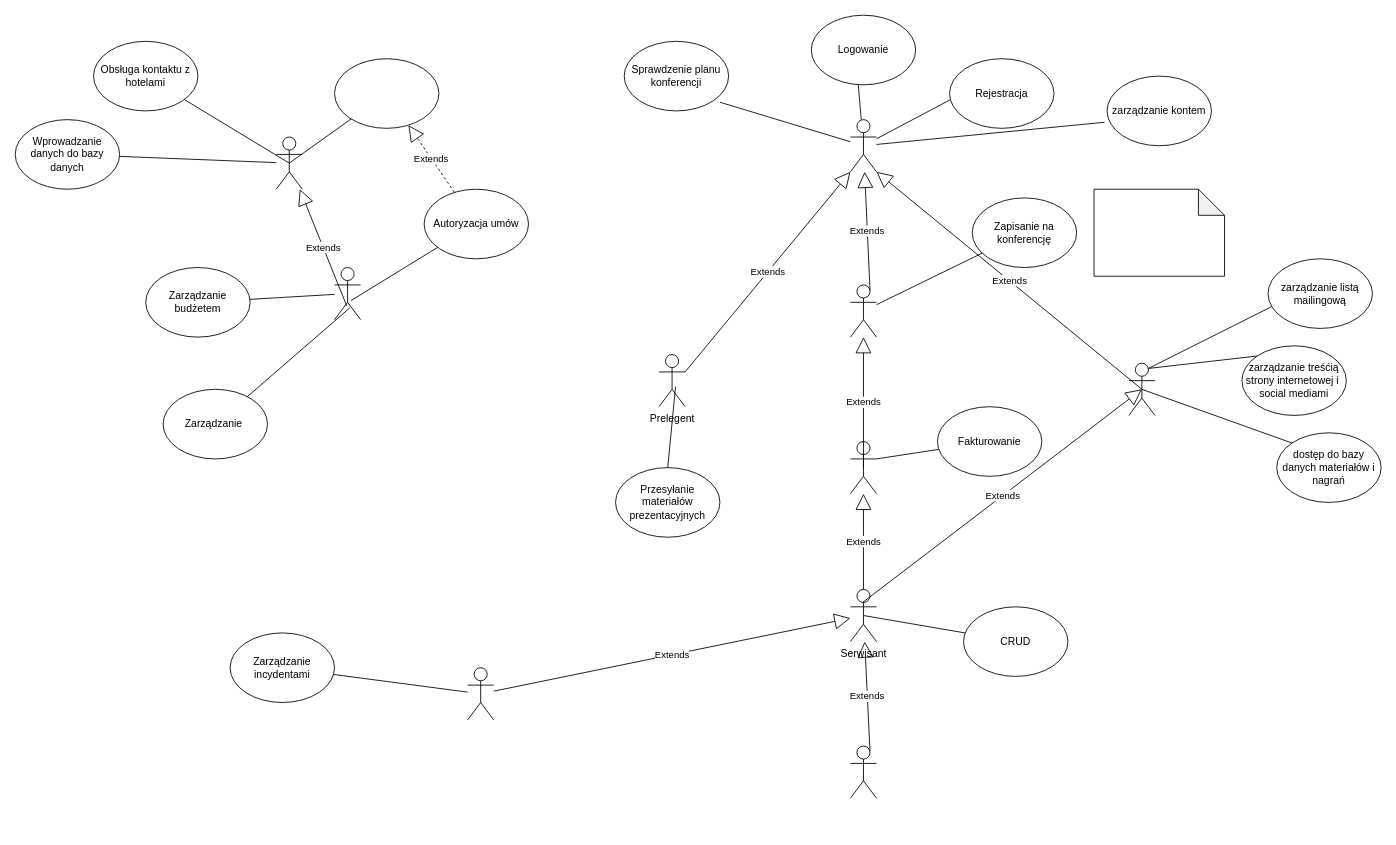
This 1396x845 diagram has some shape labels left out. The centre of each missing label's shape, as x and y in pixels:
"- nogleg - wyżwyienie - preferencje -życzenia specjalne" goes at pixel 1159 232.
"Administrator" goes at pixel 863 771.
"Firma" goes at pixel 863 467.
"Klient indywidualny" goes at pixel 863 310.
"Komunikacja z podwykonawcami" goes at pixel 386 93.
"Manager" goes at pixel 347 293.
"marketingowiec" goes at pixel 1141 388.
"Obsługa cyberbezpieczeństwa" goes at pixel 480 693.
"Pracownik" goes at pixel 288 162.
"Użytkownik niezalogowany" goes at pixel 863 145.
